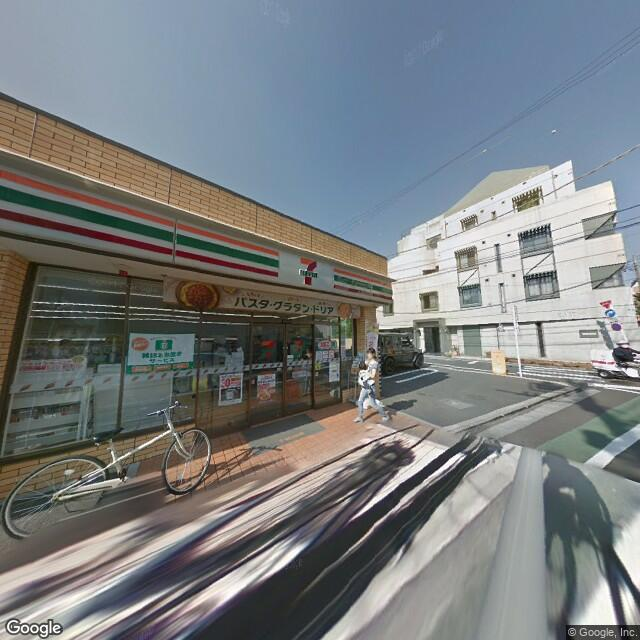7-eleven: (1, 165, 394, 307)
